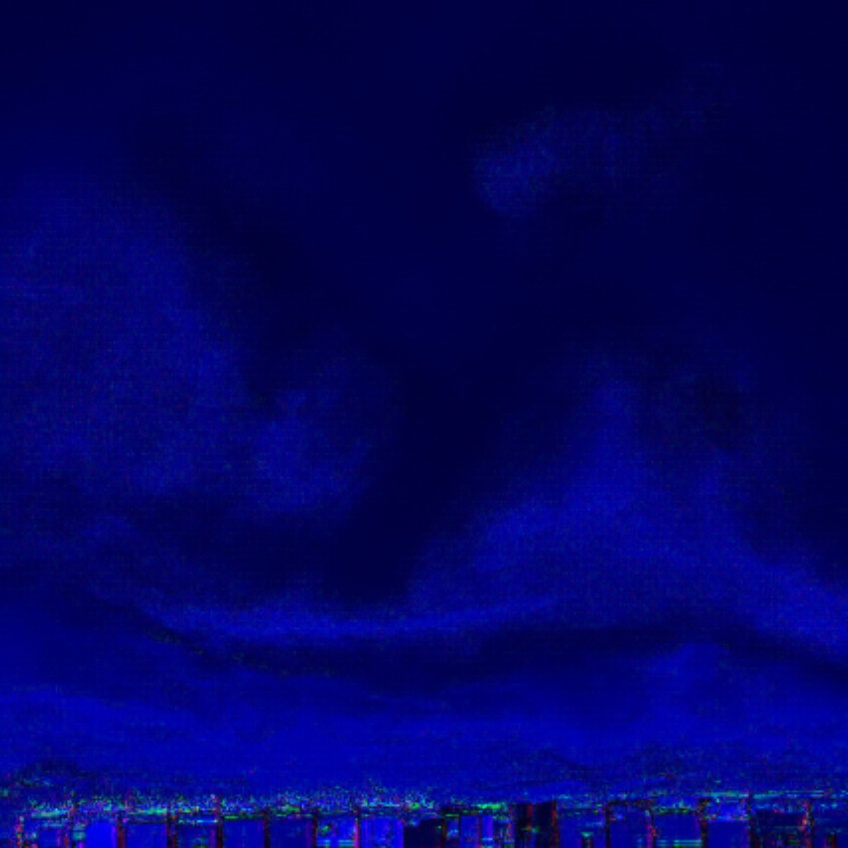rip_current: (298, 240, 604, 599)
